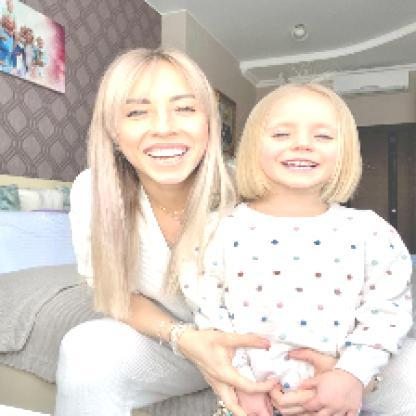child: (194, 81, 415, 416)
